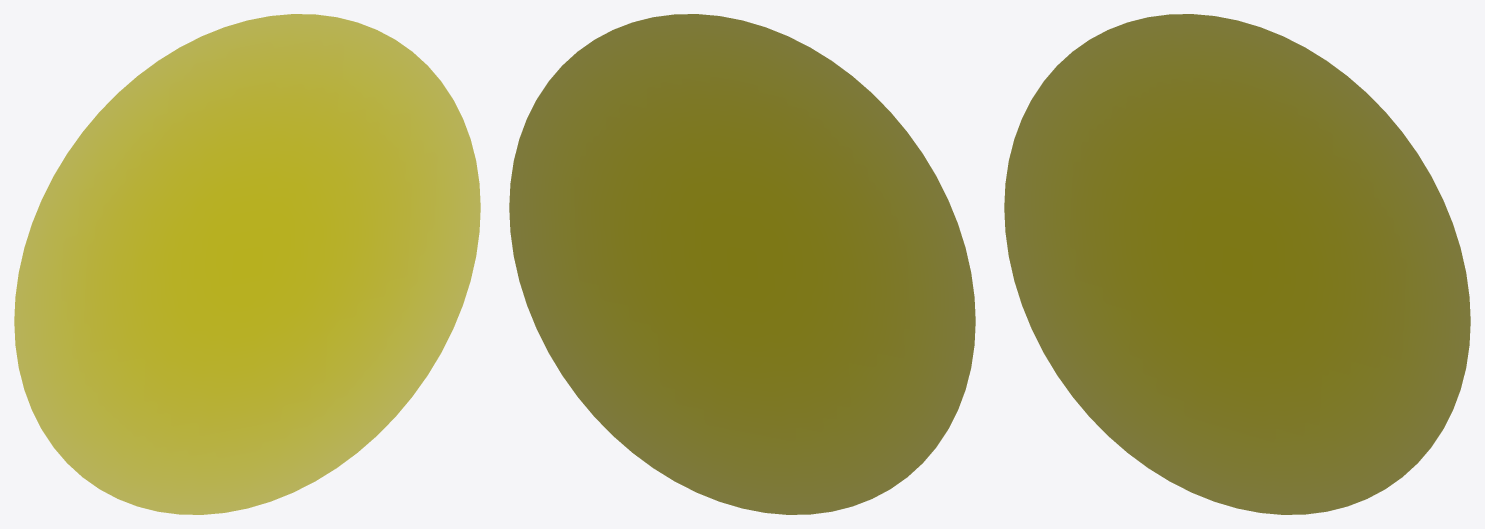
File: Aura.glb
3 views of the same model, side by side, from view 1: azimuth 30°, elevation 25°; view 2: azimuth 150°, elevation 25°; view 3: azimuth 330°, elevation 25° (orthographic).
Parts seen in each view (by area): view 1: Circle.013; view 2: Circle.013; view 3: Circle.013.
Part boxes in pixels (left/top/right/bottom): Circle.013: left=14, top=14, right=480, bottom=514; Circle.013: left=509, top=14, right=975, bottom=514; Circle.013: left=1004, top=14, right=1470, bottom=514.
Bounding box in the file's own units: 7.12 × 7.12 × 1.58e-15.
1 material, 1 textured.
